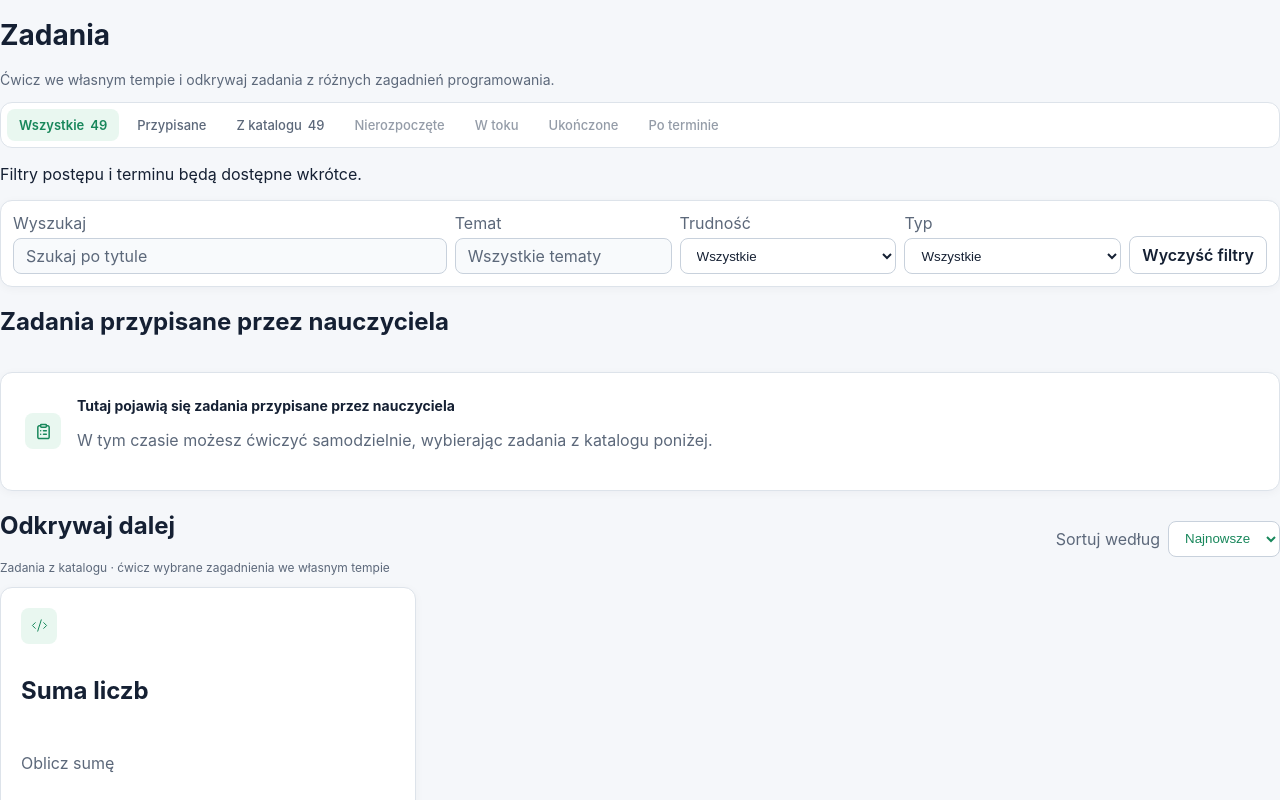
Test case: debounces both text fields, trims them, preserves other filters and resets pagination
expect the link "Suma liczb" is shown: met, box left=21, top=676, right=149, bottom=705
Select "Trudny" in the dropdown labelled "Trudność" at [788, 256], box left=680, top=238, right=896, bottom=274
(page scrolled)
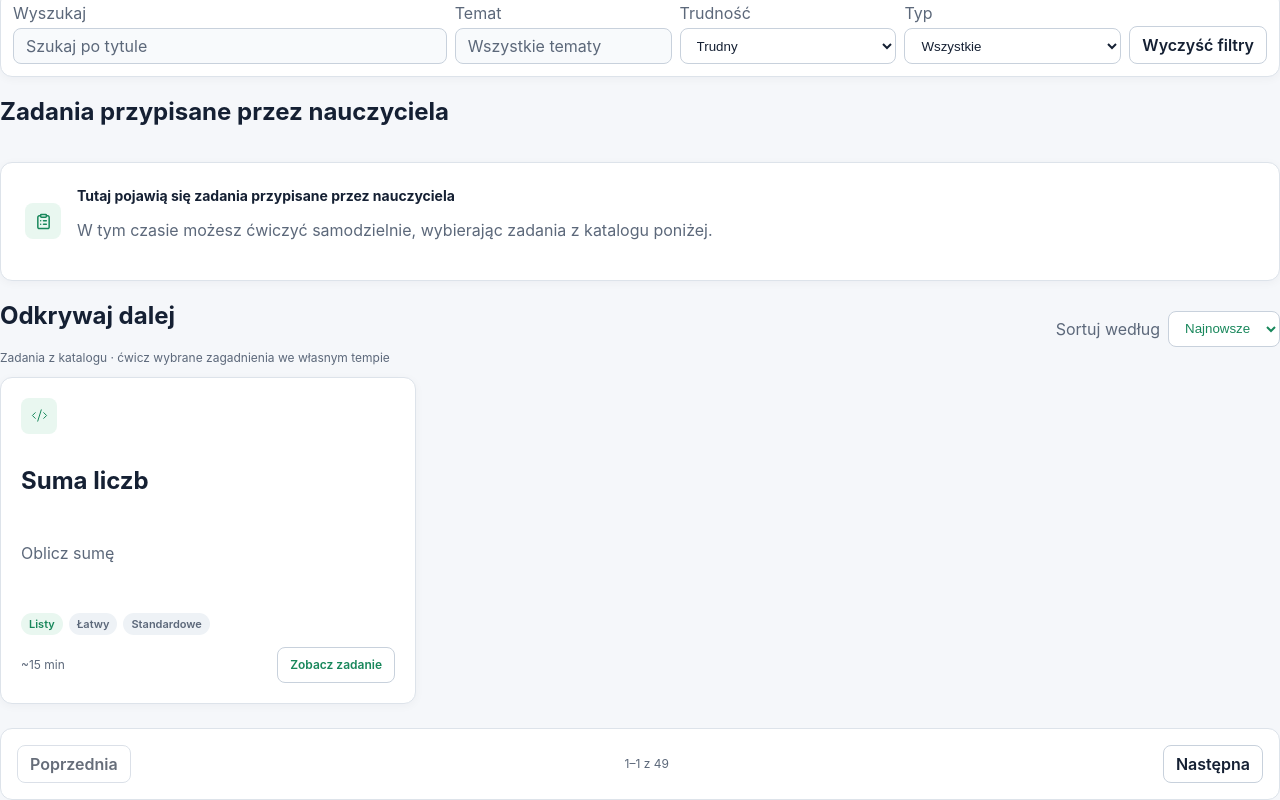
expect the link "Suma liczb" is shown: met, box left=21, top=466, right=149, bottom=495
Click the button "Następna" at [1213, 764], box left=1163, top=744, right=1263, bottom=782
(page scrolled)
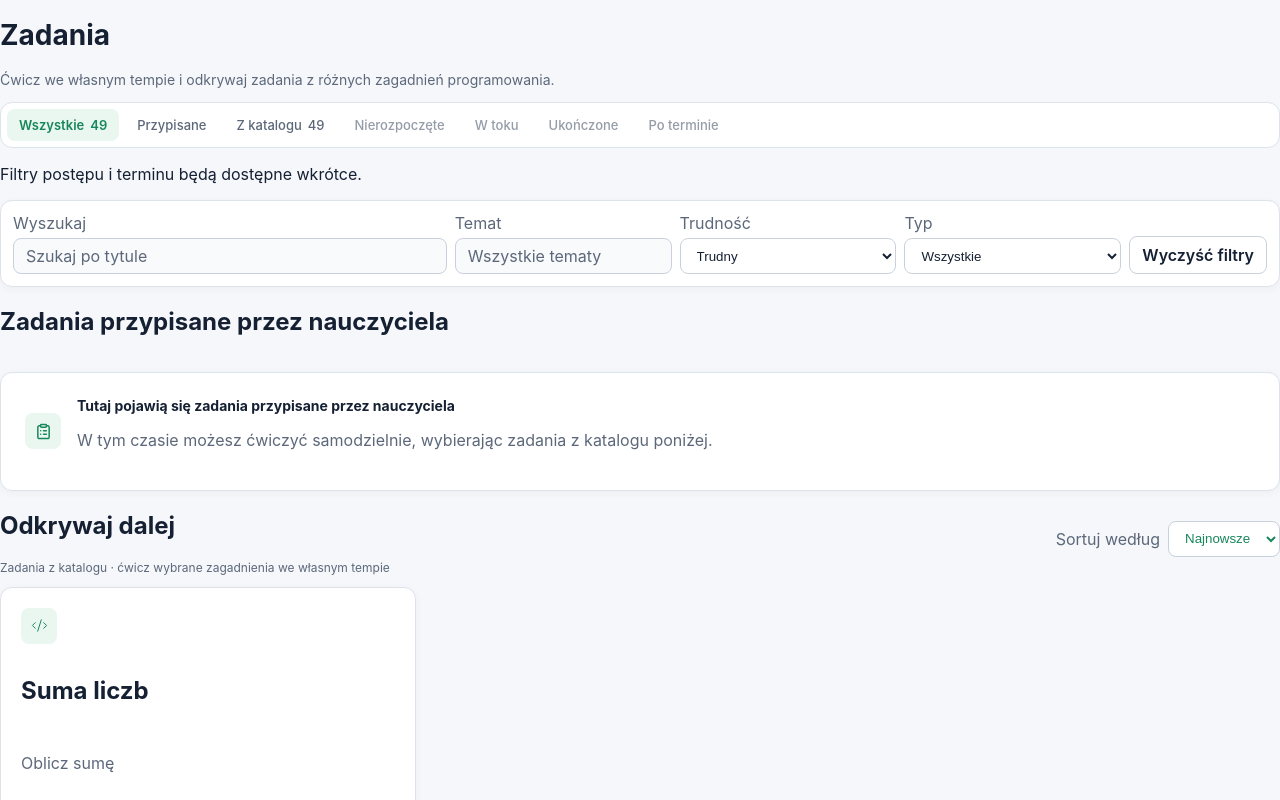
expect the link "Suma liczb" is shown: met, box left=21, top=676, right=149, bottom=705
Type "su" into the field labelled "Wyszukaj" at [230, 256], box left=13, top=238, right=447, bottom=274
Wait 200 ms
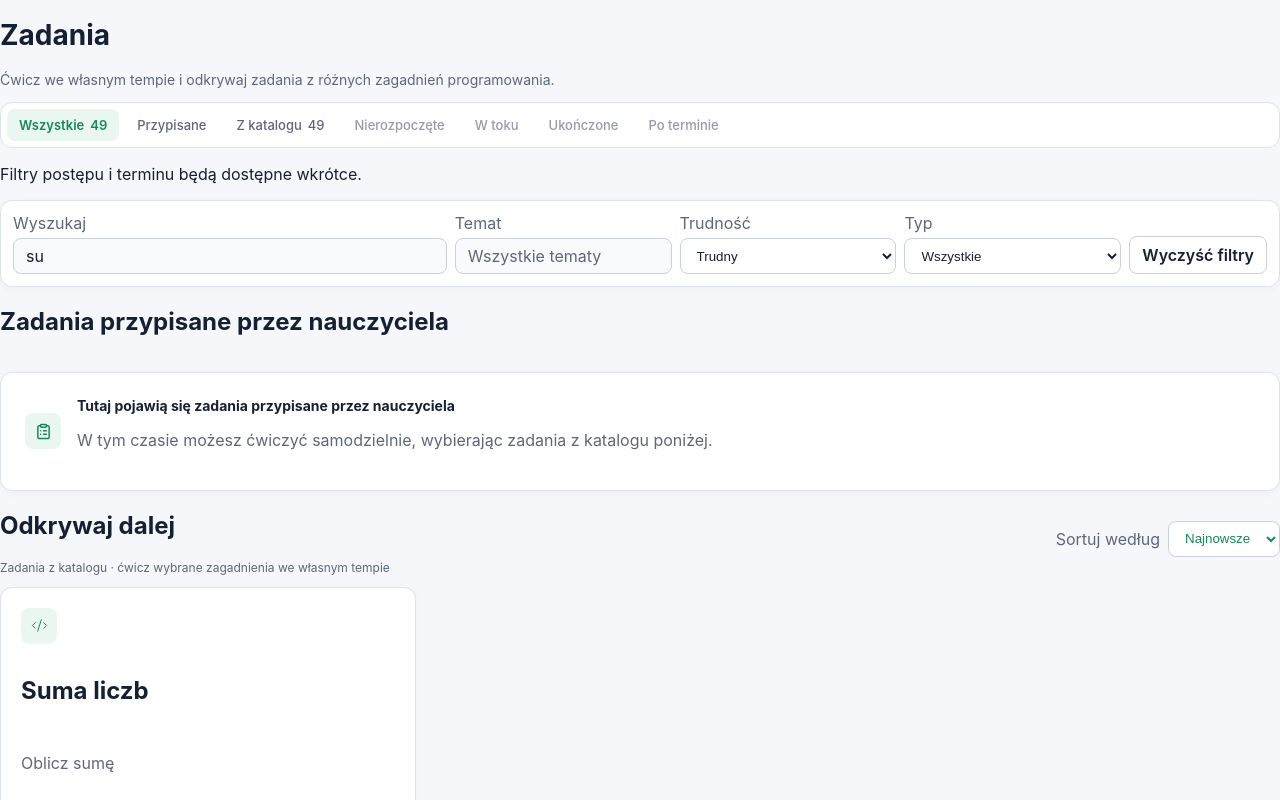
Replace the text in the field labelled "Wyszukaj" with " suma " at [230, 256], box left=13, top=238, right=447, bottom=274
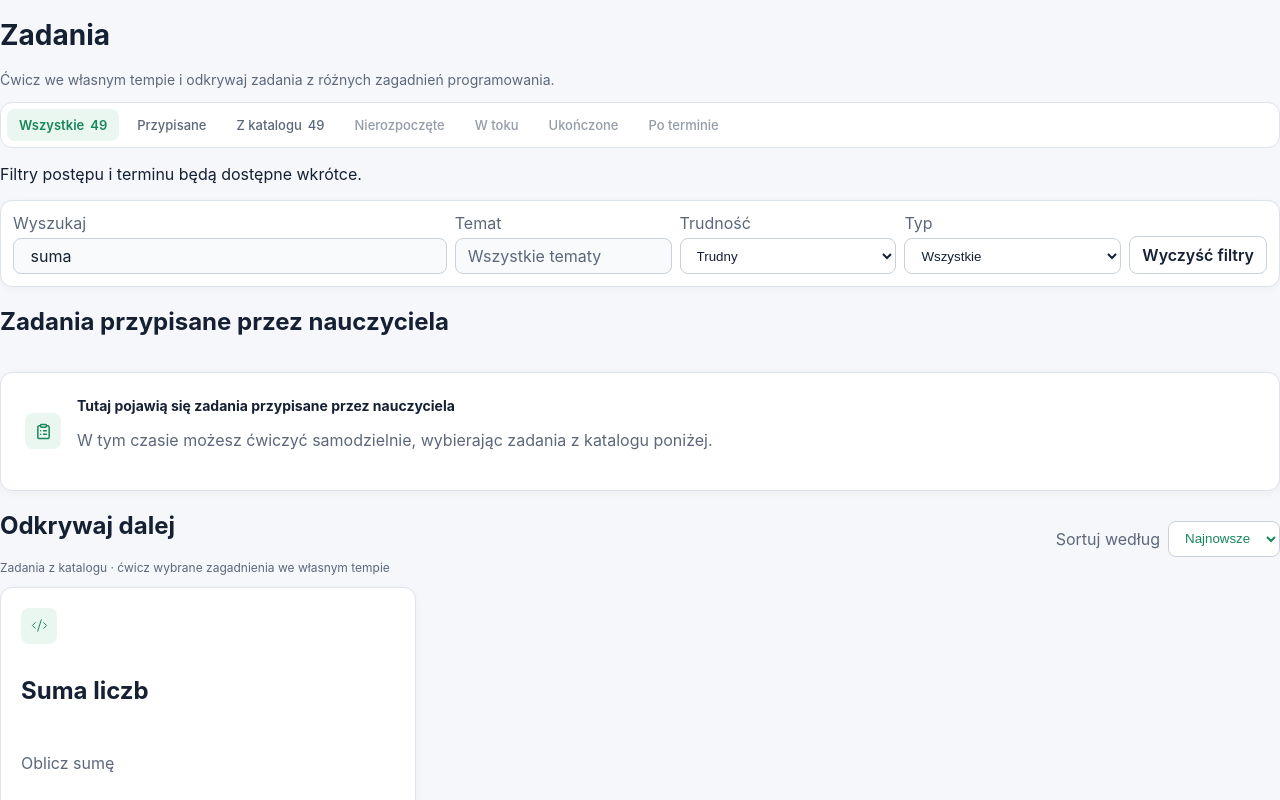
Type " Listy " into the field labelled "Temat" at [563, 256], box left=455, top=238, right=672, bottom=274
Wait 300 ms
(page scrolled)
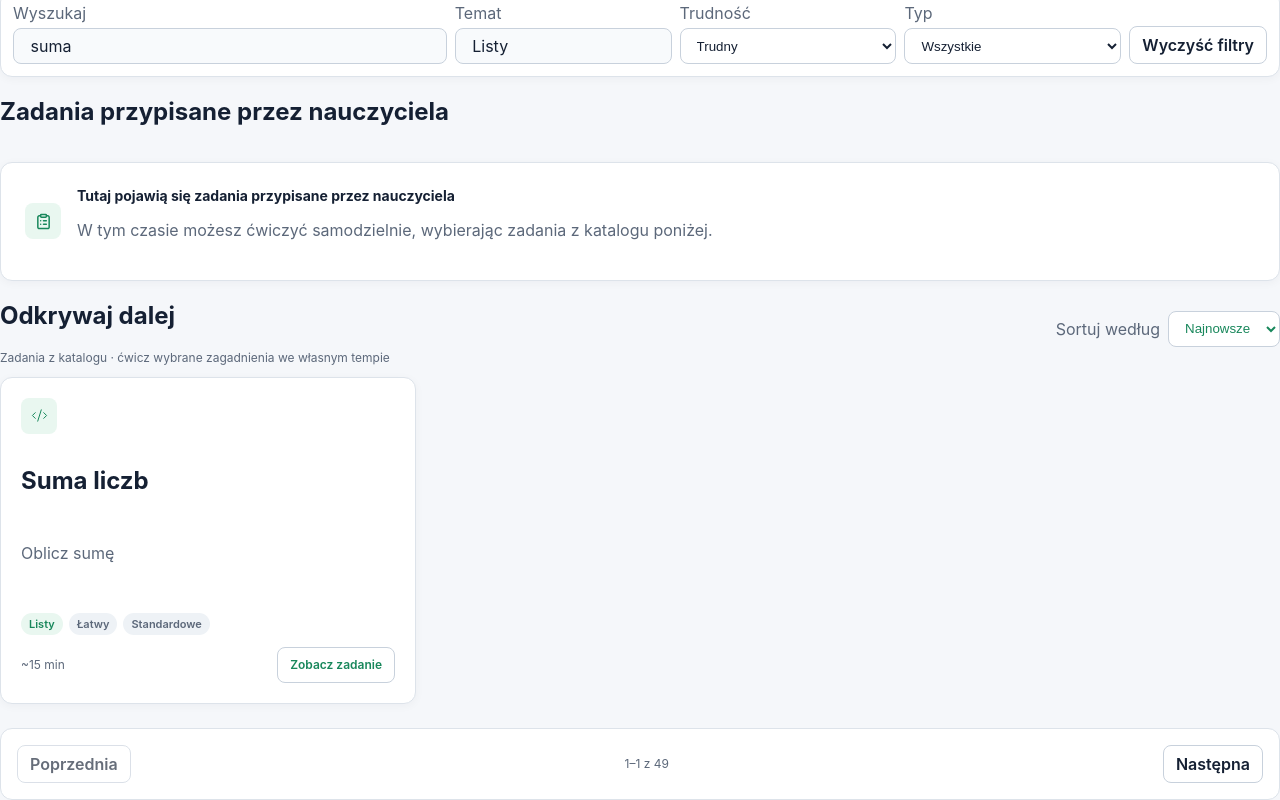
expect the button "Poprzednia" is disabled: met, box left=17, top=744, right=131, bottom=782
